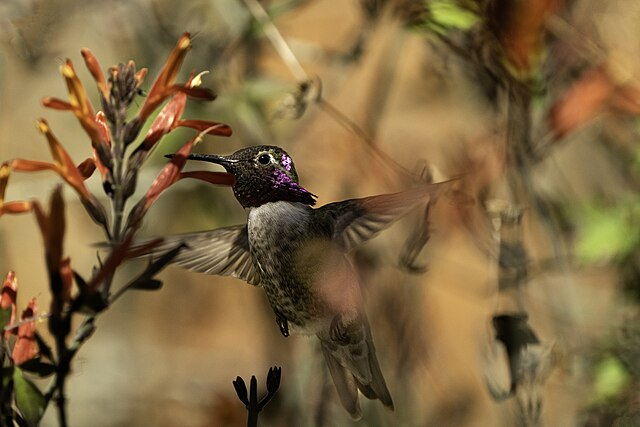calypte costae: (79, 136, 455, 411)
